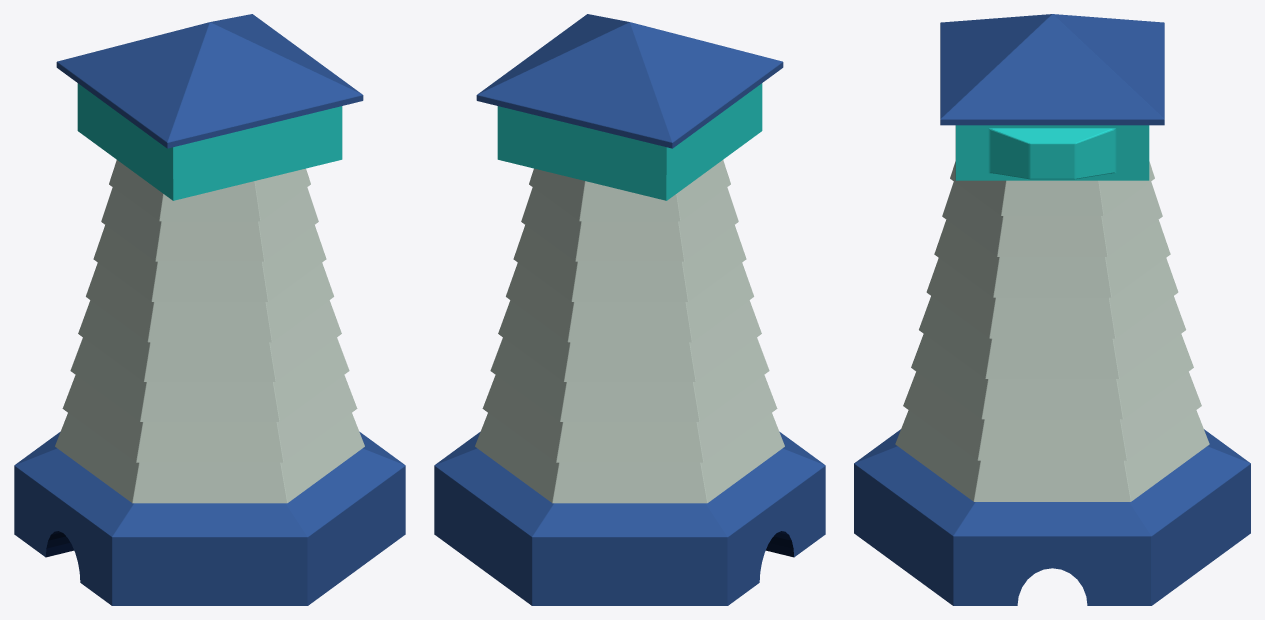
File: Windmill Base.fbx
3 views of the same model, side by side, from view 1: azimuth 30°, elevation 25°; view 2: azimuth 150°, elevation 25°; view 3: azimuth 270°, elevation 25° (orthographic).
Parts seen in each view (by area): view 1: Windmill Base; view 2: Windmill Base; view 3: Windmill Base.
Part boxes in pixels (x1,y1,x2,y2): Windmill Base: (14, 14, 405, 605); Windmill Base: (434, 14, 825, 605); Windmill Base: (854, 14, 1250, 605).
Bounding box in the file's own units: 982 × 1635 × 1133.
1 material, 1 textured.
